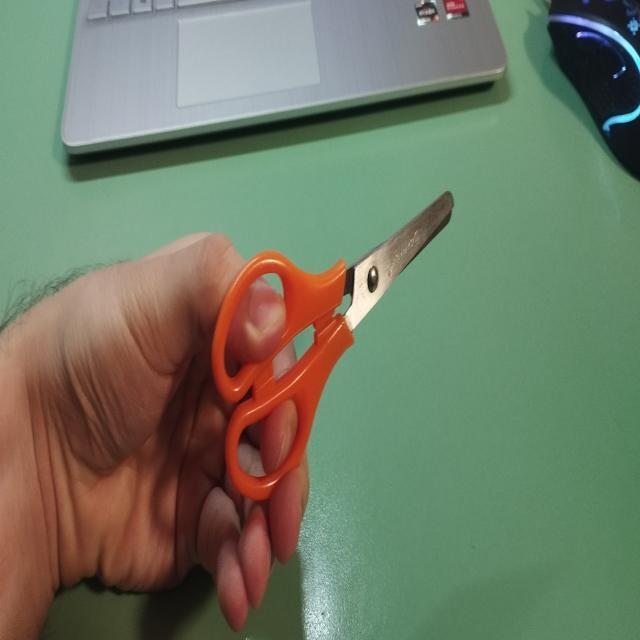tesoura: (205, 185, 458, 501)
